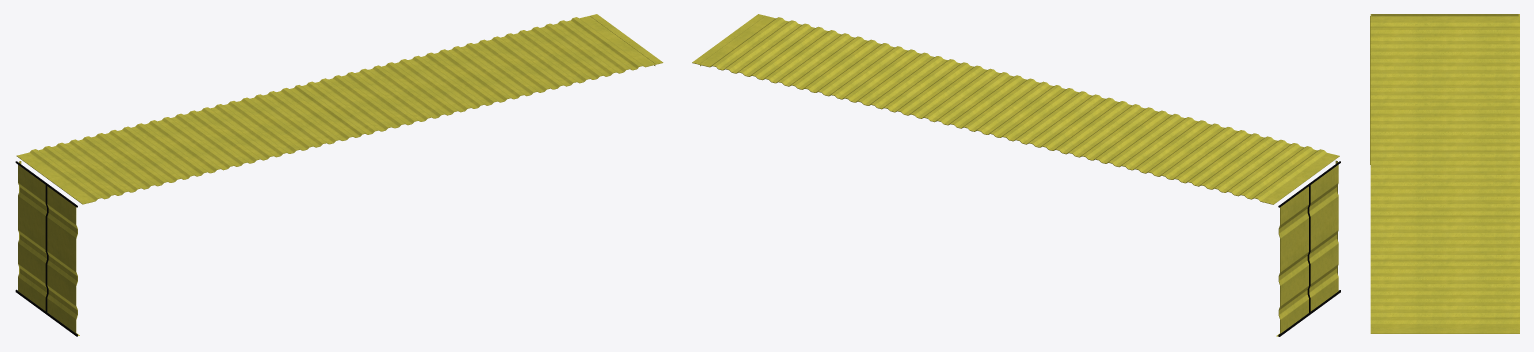
The model's file is rear-top-sprayfoam.glb.
3 renders of one model, left to right at view 1: azimuth 30°, elevation 25°; view 2: azimuth 150°, elevation 25°; view 3: azimuth 270°, elevation 25°, orthographic. The views are drawn at different scales.
Parts seen in each view (by area): view 1: 40FT HC Sprayfoam_RearTop; view 2: 40FT HC Sprayfoam_RearTop; view 3: 40FT HC Sprayfoam_RearTop.
Boxes of the visible parts, left/top/right/bottom form: 40FT HC Sprayfoam_RearTop: left=15, top=14, right=663, bottom=336; 40FT HC Sprayfoam_RearTop: left=692, top=14, right=1340, bottom=336; 40FT HC Sprayfoam_RearTop: left=1370, top=14, right=1519, bottom=333.
Size of the model in its own units: 12.1 by 2.68 by 2.38.
Materials: 2 (1 with a texture image).
